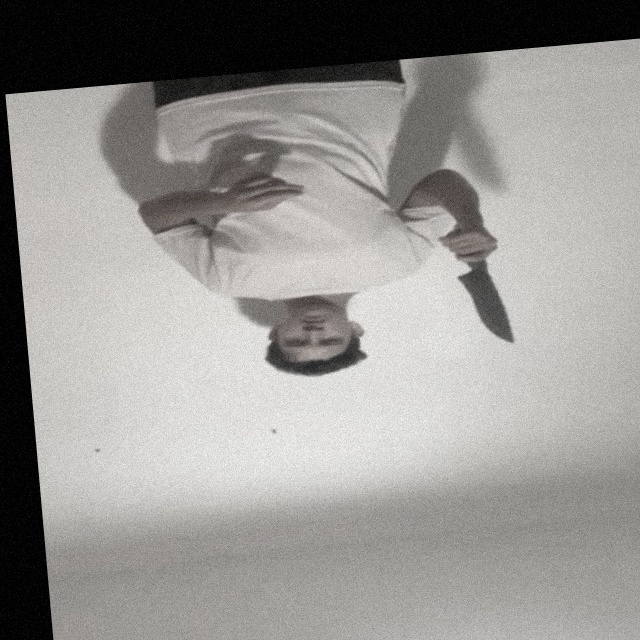Sharp-Object: (459, 273, 513, 347)
